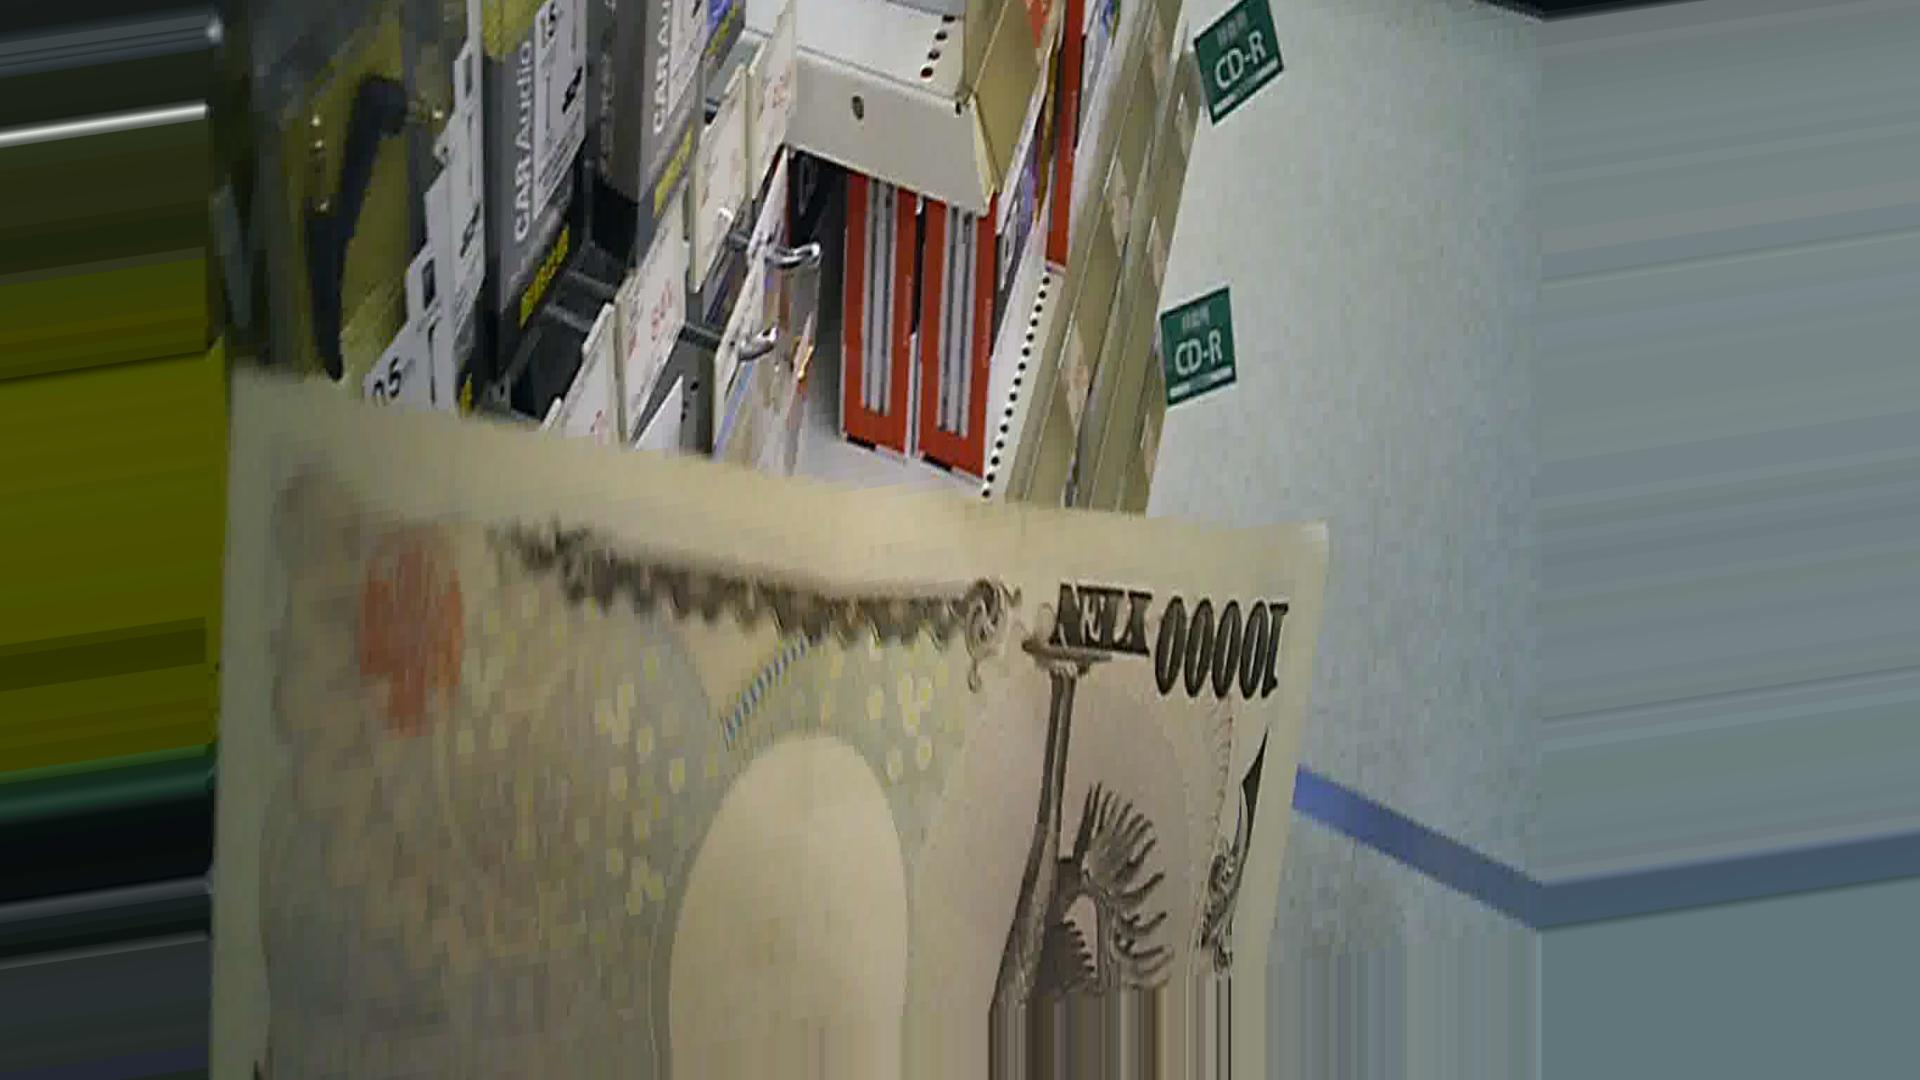10,000 Yen: (185, 345, 1302, 997)
